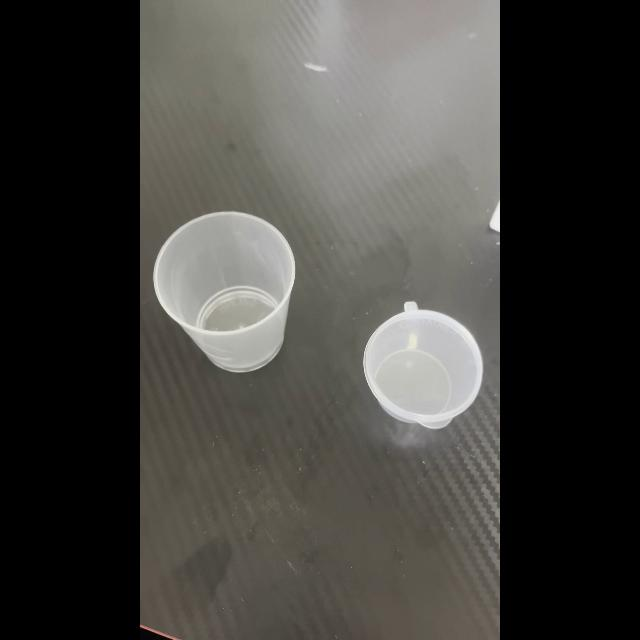clean: (153, 211, 297, 369), (363, 305, 485, 427)
